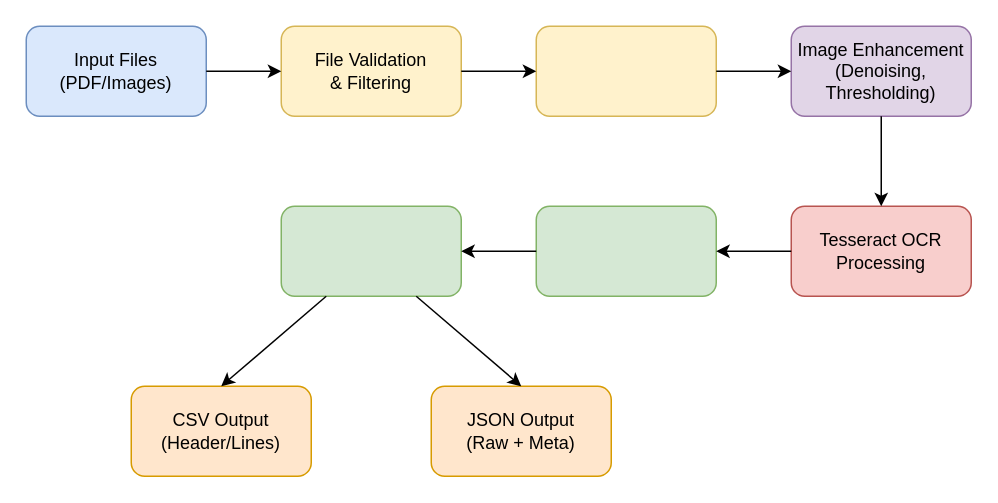
Some shapes in this 998 by 503 pixel diagram are drawn without their labels. Each missing label, with the centre of its shape:
Data Extraction & Parsing: [625,250]
Data Validation & Cleaning: [370,250]
Load Image Processing: [625,70]
